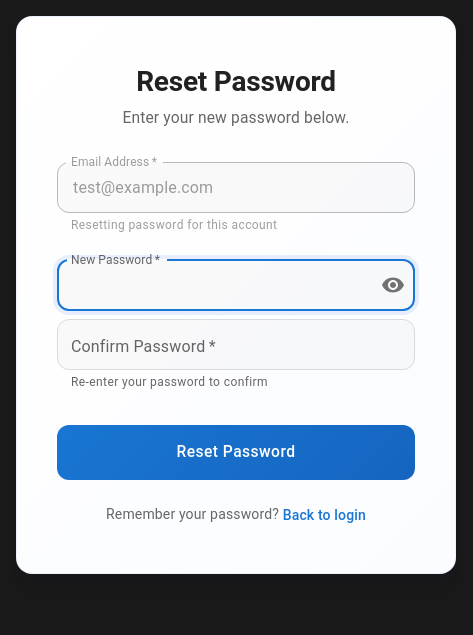
PasswordResetConfirmForm › form validation › should show error when passwords do not match
In the password field labelled "New Password *": point(211, 285) [57,260,365,311], type "StrongP@ss1"
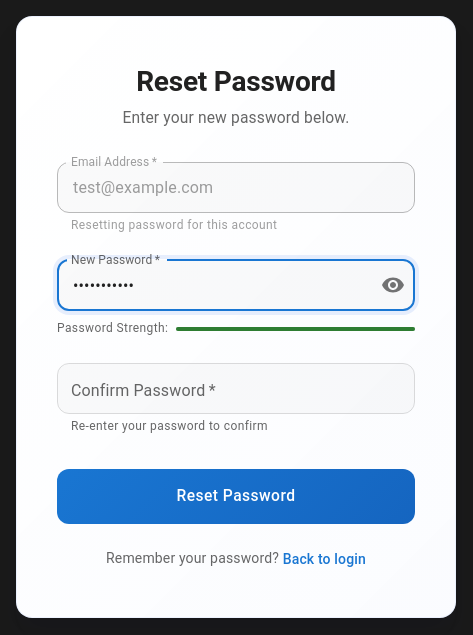
In the password field labelled "Confirm Password *": point(236, 388) [57,363,415,414], type "DifferentP@ss2"
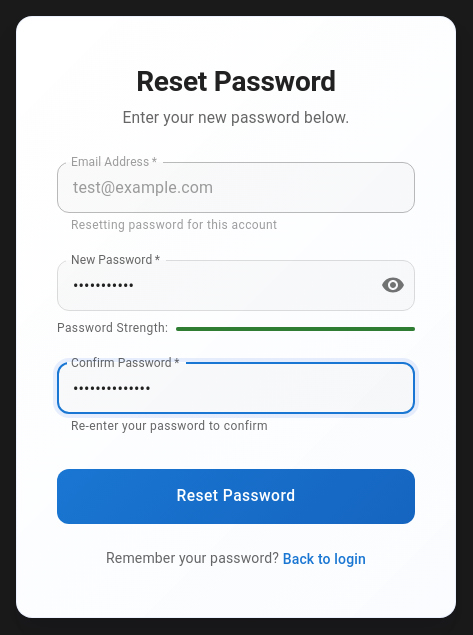
Click the button "Reset Password": point(236, 496) [57,469,415,524]
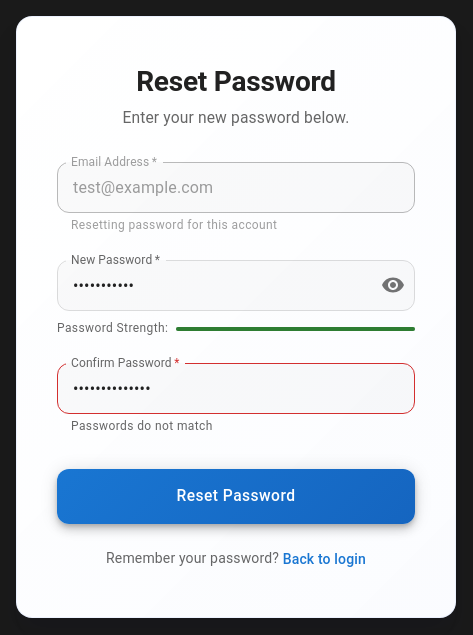
Check: the text "Passwords do not match" is shown, box [71,419,213,433]
